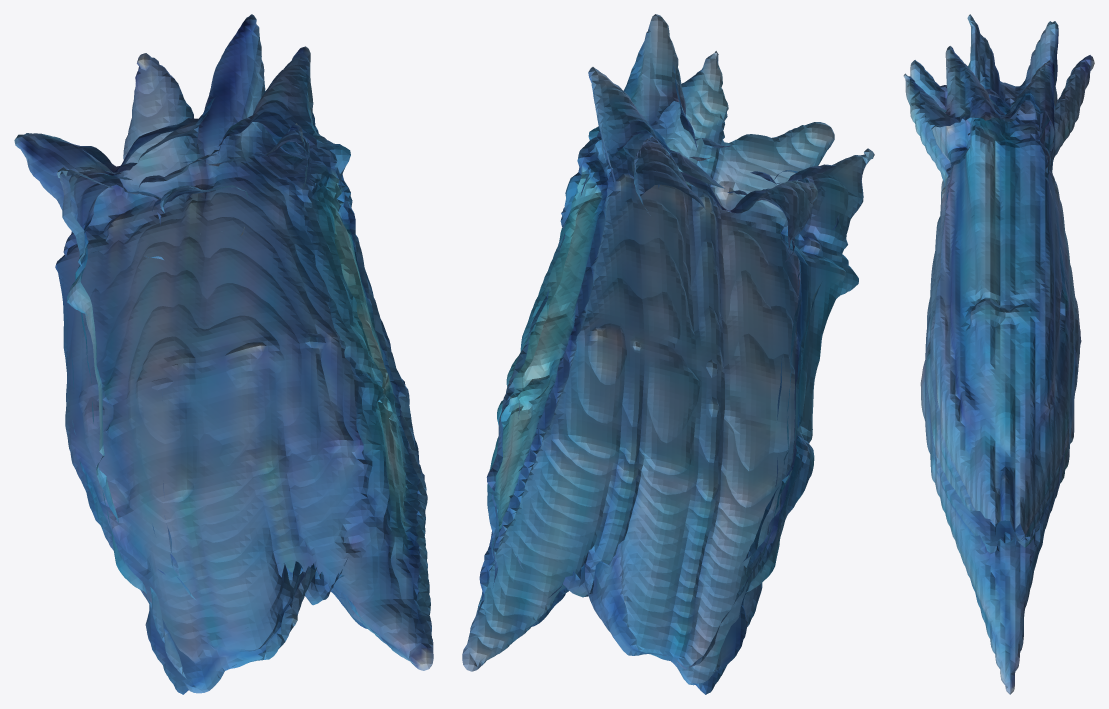
The model's file is mage_arc_bolt_v2__crystal_lance__triposr_raw_r256.glb.
3 renders of one model, left to right at view 1: azimuth 30°, elevation 25°; view 2: azimuth 150°, elevation 25°; view 3: azimuth 270°, elevation 25°, orthographic. The views are drawn at different scales.
Visible parts, largest first — view 1: world; view 2: world; view 3: world.
Boxes of the visible parts, x1,y1,x2,y2 form: world: [14, 14, 433, 694]; world: [462, 14, 874, 694]; world: [903, 14, 1094, 694].
Size of the model in its own units: 0.5342 by 0.8768 by 0.2608.
